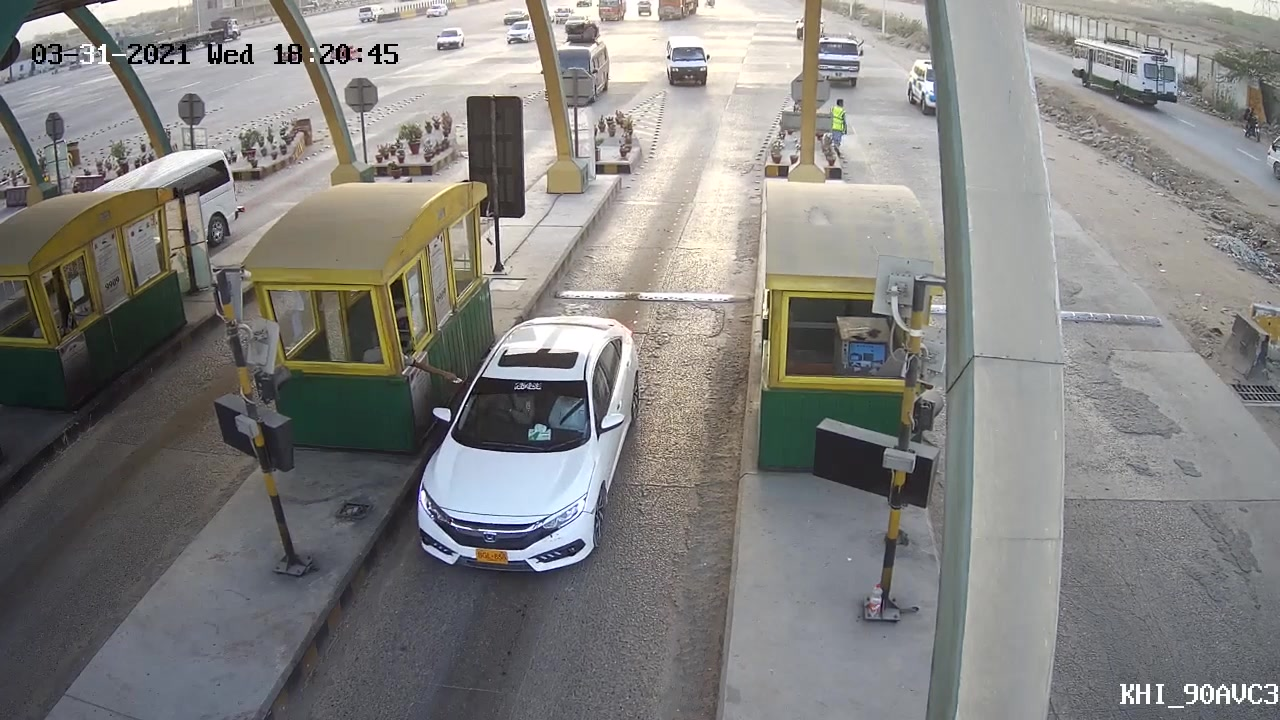F1: (406, 310, 650, 571)
